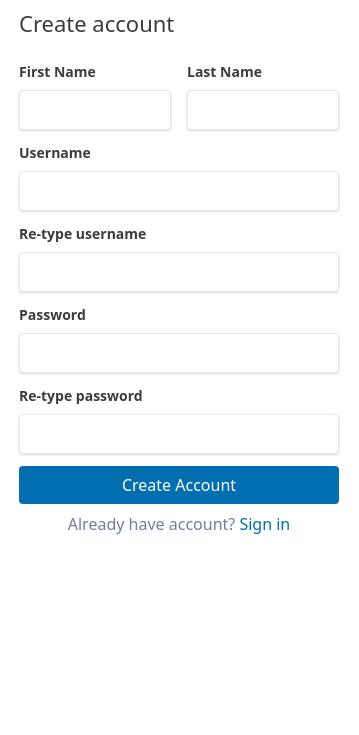
Test: Signup › ensure username and retype username field has same value [FALSY]
Type "jonhdoe" into the field with test id "datatest-username" at coordinates (179, 191), box [19,171,339,211]
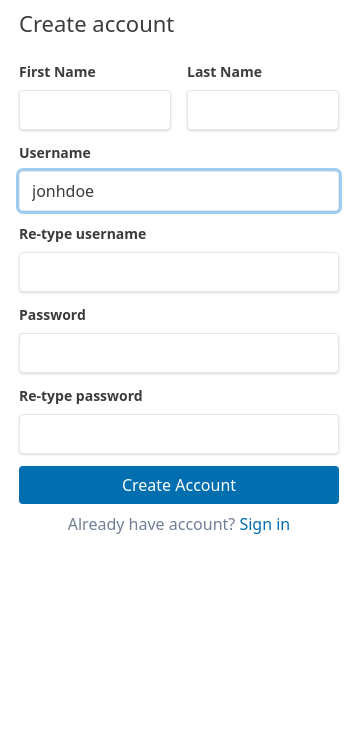
Type "jonhdoe123" into the field with test id "datatest-confirmUsername" at coordinates (179, 272), box [19,252,339,292]
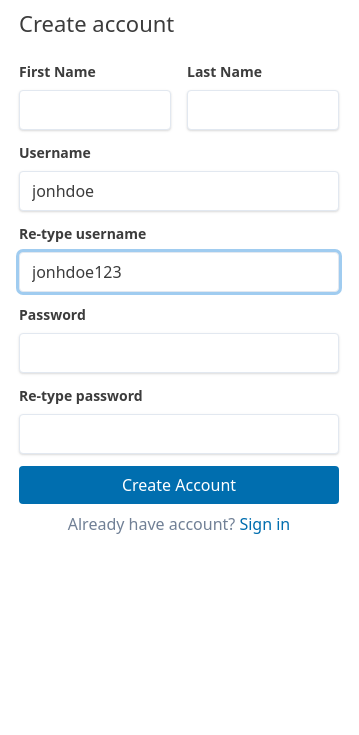
Click the button "Create Account" at coordinates (179, 485), box [19,466,339,504]
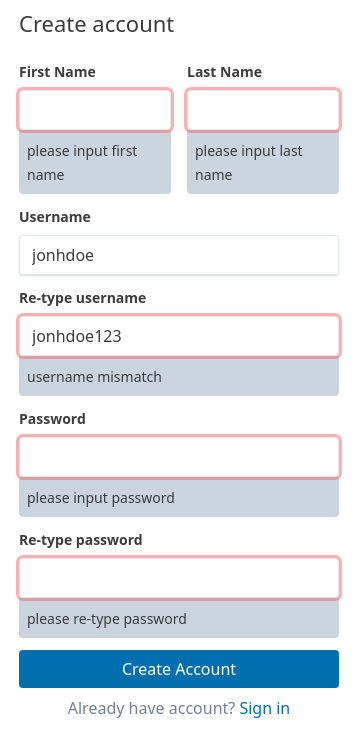
Expected: the element with test id "signup-step" shows "username mismatch", [27,367,162,386]
